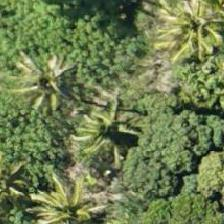coconut_tree: (5, 36, 95, 126), (58, 83, 148, 173), (0, 141, 58, 223), (155, 0, 223, 67), (14, 176, 104, 223)
